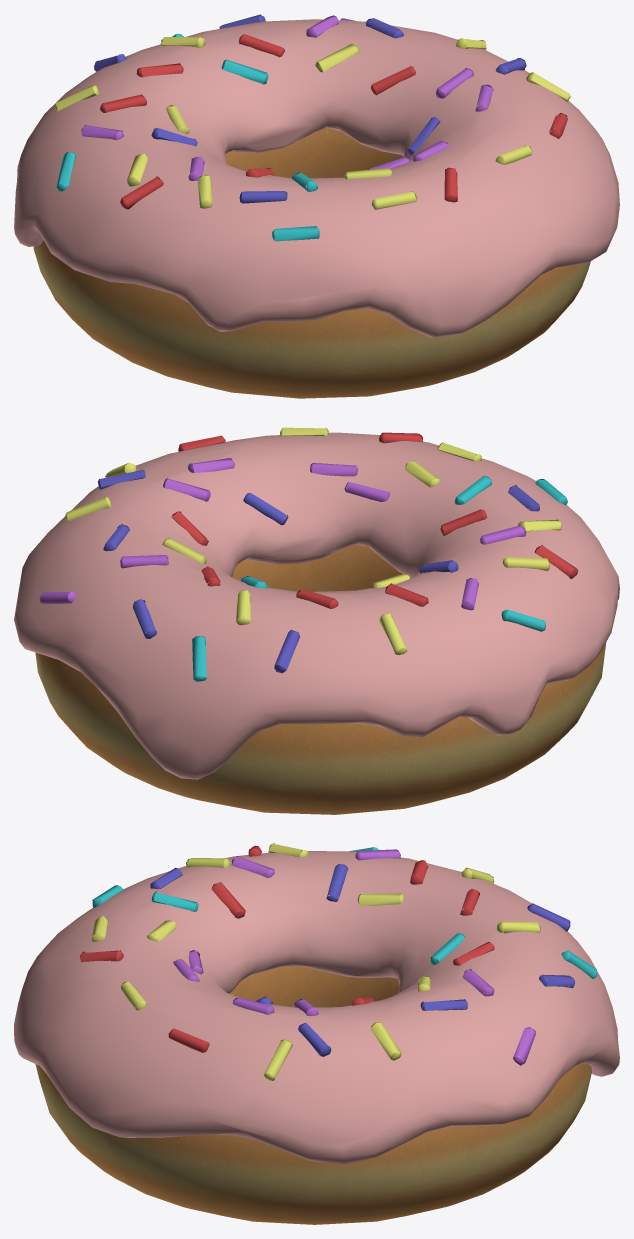
Rendered from donut5.glb.
3 renders of one model, top to bottom at view 1: azimuth 30°, elevation 25°; view 2: azimuth 150°, elevation 25°; view 3: azimuth 270°, elevation 25°, orthographic. The views are drawn at different scales.
Parts seen in each view (by area): view 1: Donut5; view 2: Donut5; view 3: Donut5.
Boxes of the visible parts, <box> form: Donut5: <box>14,14,619,398</box>; Donut5: <box>14,427,619,814</box>; Donut5: <box>14,843,619,1224</box>.
Size of the model in its own units: 2.29 by 0.8669 by 2.32.
Materials: 2 (2 with a texture image).
